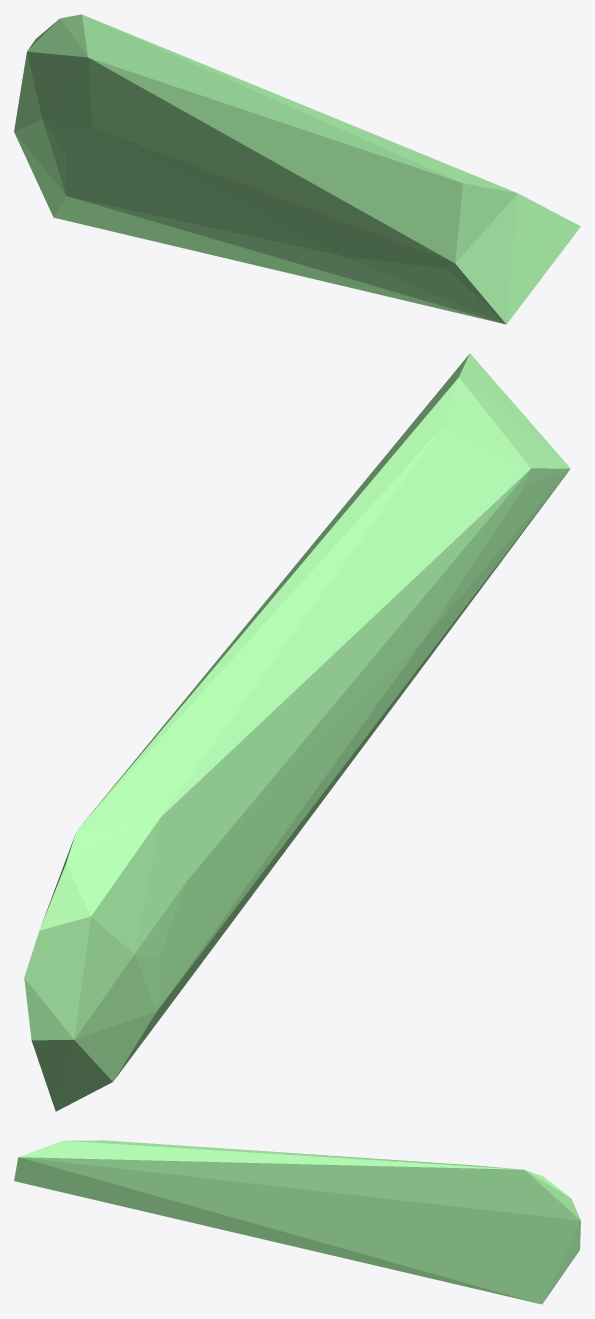
File: Panda_link5_respondable_coll_2.dae
3 views of the same model, one above another, from view 1: azimuth 30°, elevation 25°; view 2: azimuth 150°, elevation 25°; view 3: azimuth 270°, elevation 25° (orthographic). The views are drawn at different scales.
Parts seen in each view (by area): view 1: Node_0x7f9e8b5ca680; view 2: Node_0x7f9e8b5ca680; view 3: Node_0x7f9e8b5ca680.
Boxes of the visible parts, x1,y1,x2,y2 form: Node_0x7f9e8b5ca680: (14,14,580,324); Node_0x7f9e8b5ca680: (24,353,570,1111); Node_0x7f9e8b5ca680: (14,1140,580,1304).
Bounding box in the file's own units: 0.0398 × 0.0835 × 0.2353.
